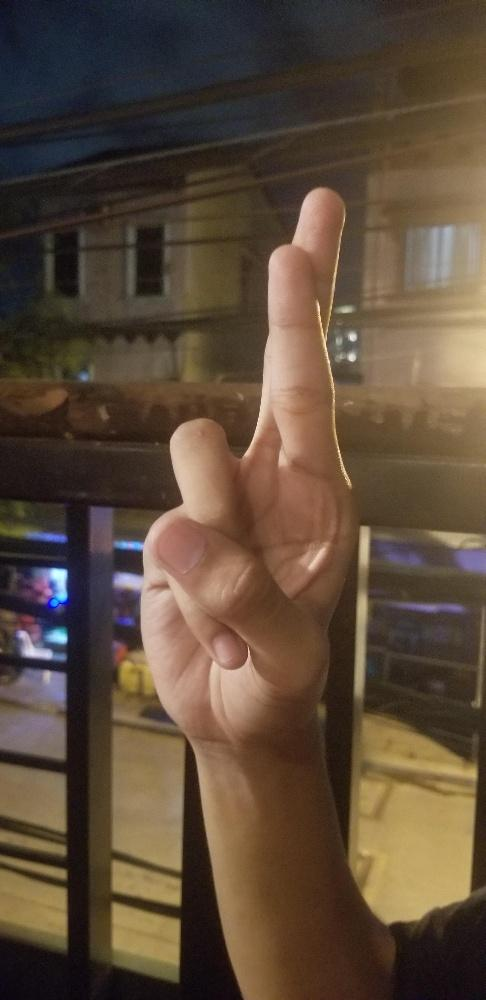r: (137, 185, 353, 736)
